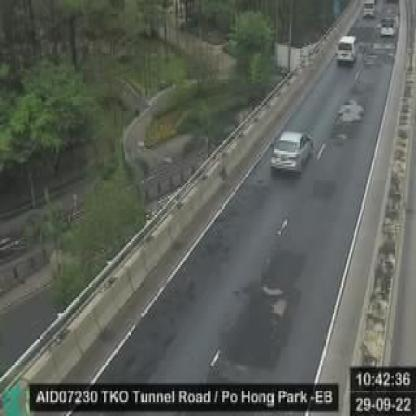Car: (268, 125, 316, 175), (333, 30, 357, 68), (378, 14, 399, 40)
